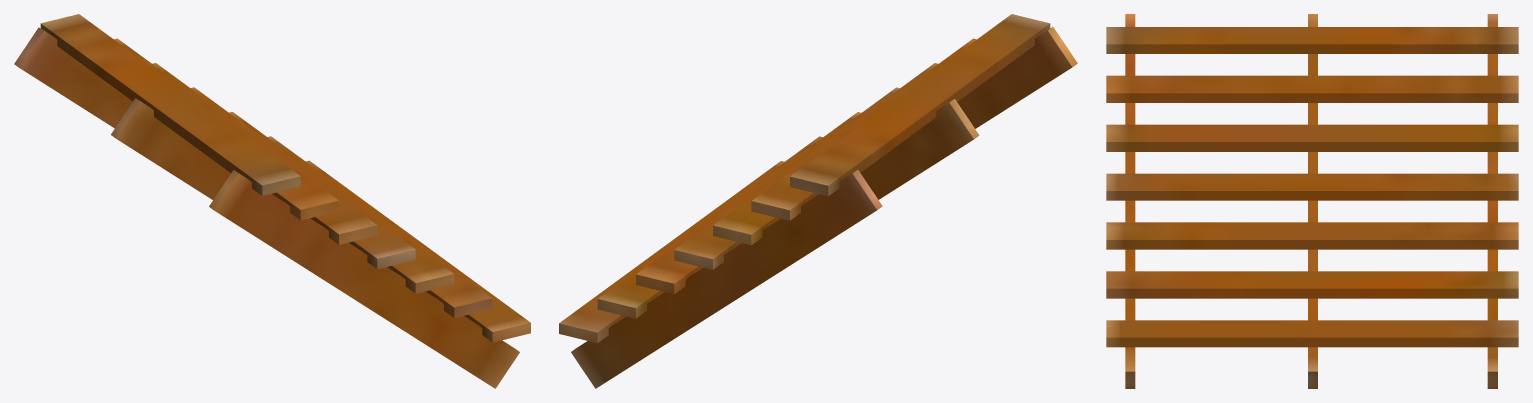
File: mega-pack-cube-254.glb
3 views of the same model, side by side, from view 1: azimuth 30°, elevation 25°; view 2: azimuth 150°, elevation 25°; view 3: azimuth 270°, elevation 25° (orthographic). The views are drawn at different scales.
Visible parts, largest first — view 1: Cube.254; view 2: Cube.254; view 3: Cube.254.
Boxes of the visible parts, box(x1,y1,x2,y2) form: Cube.254: box(14, 14, 530, 388); Cube.254: box(559, 14, 1077, 388); Cube.254: box(1106, 14, 1518, 388).
Bounding box in the file's own units: 1.64 × 1.42 × 2.05.
Materials: 1 (1 with a texture image).
